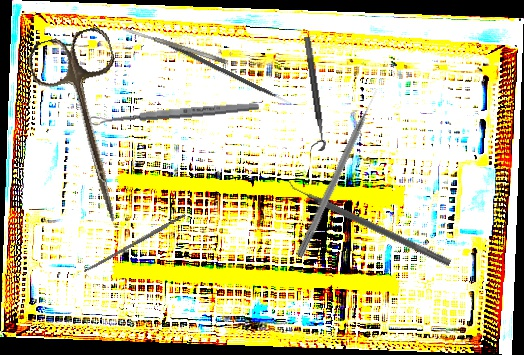Fixation Ring: (294, 36, 327, 153)
Hook Surgical: (167, 42, 293, 108)
Iris Scissors: (24, 24, 158, 232)
Pusher: (295, 87, 383, 259)
Scalpel Handle: (83, 213, 187, 274)
Spatula Surgical: (283, 176, 455, 267), (119, 24, 229, 66)
Surgical Spoon: (89, 100, 260, 127)
